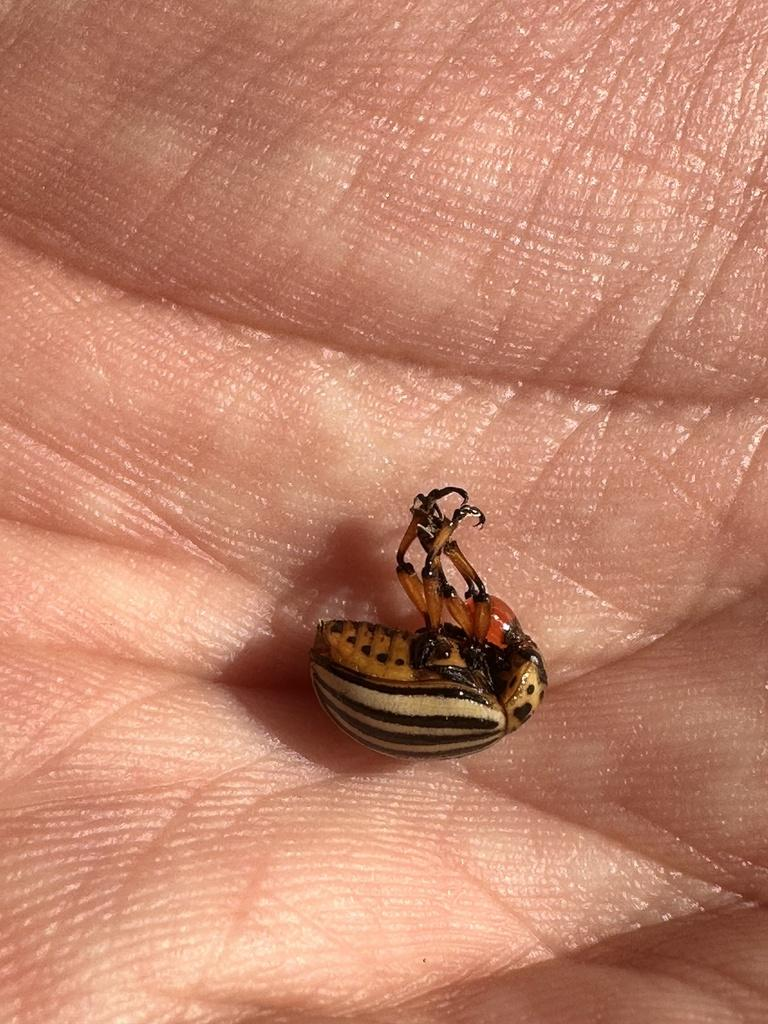potato_beetle: (240, 435, 602, 793)
